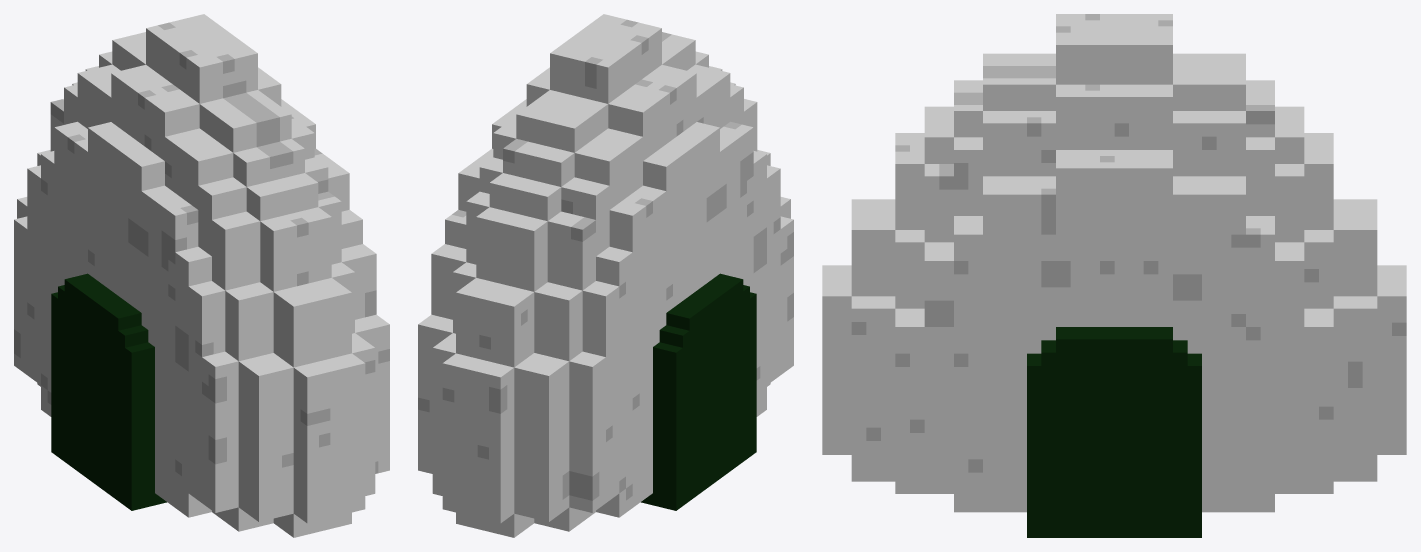
Rendered from Onigiri.glb.
3 renders of one model, left to right at view 1: azimuth 30°, elevation 25°; view 2: azimuth 150°, elevation 25°; view 3: azimuth 270°, elevation 25°, orthographic. The views are drawn at different scales.
Visible parts, largest first — view 1: Untitled; view 2: Untitled; view 3: Untitled.
Part boxes in pixels (<box>): Untitled: <box>14,14,389,537</box>; Untitled: <box>418,14,793,537</box>; Untitled: <box>822,14,1406,537</box>.
Bounding box in the file's own units: 1.9 × 3.4 × 4.
Materials: 1 (1 with a texture image).
